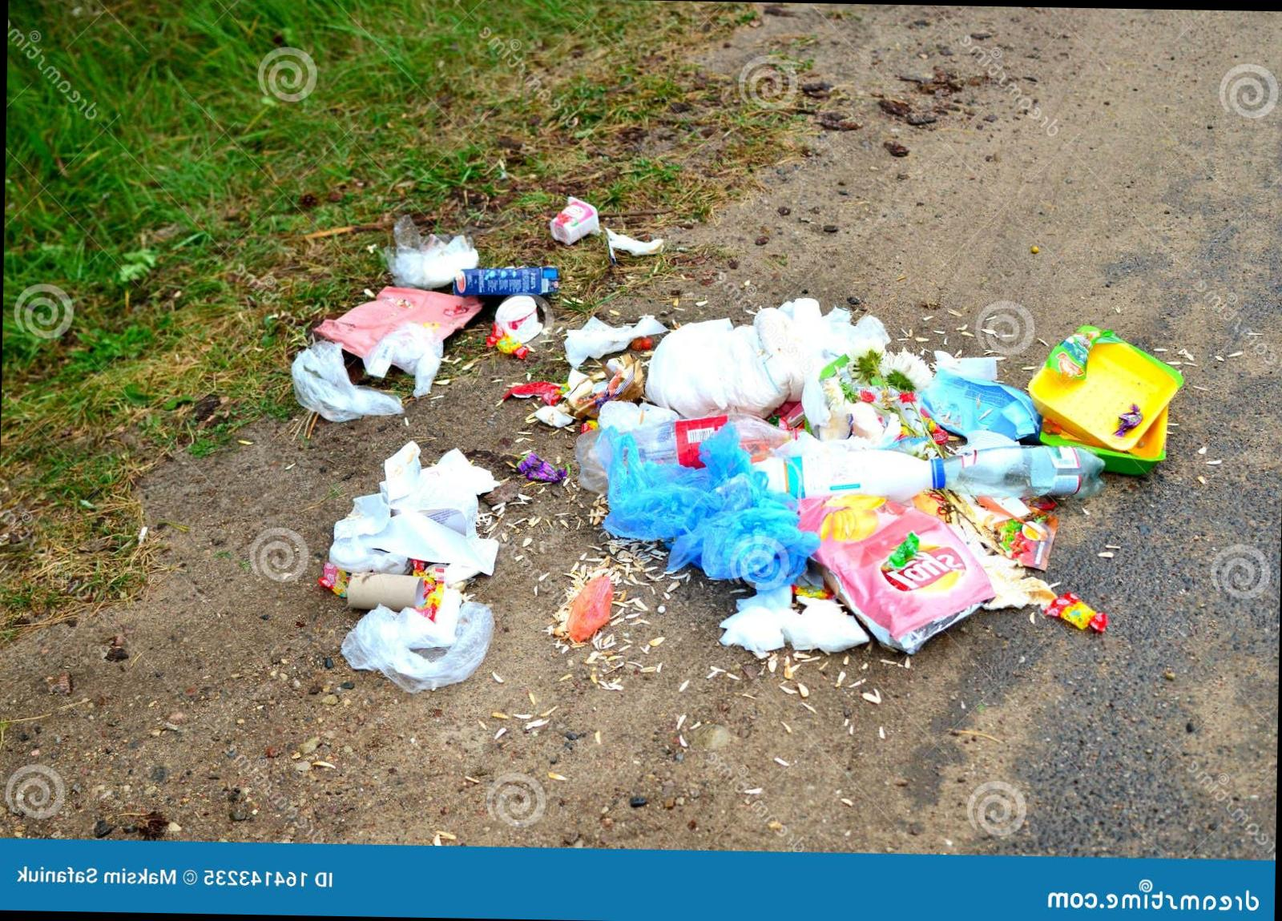trash: (290, 267, 1195, 711)
